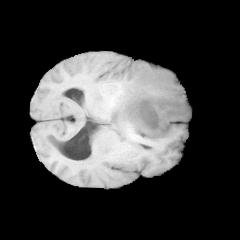glioma: (109, 65, 188, 141)
